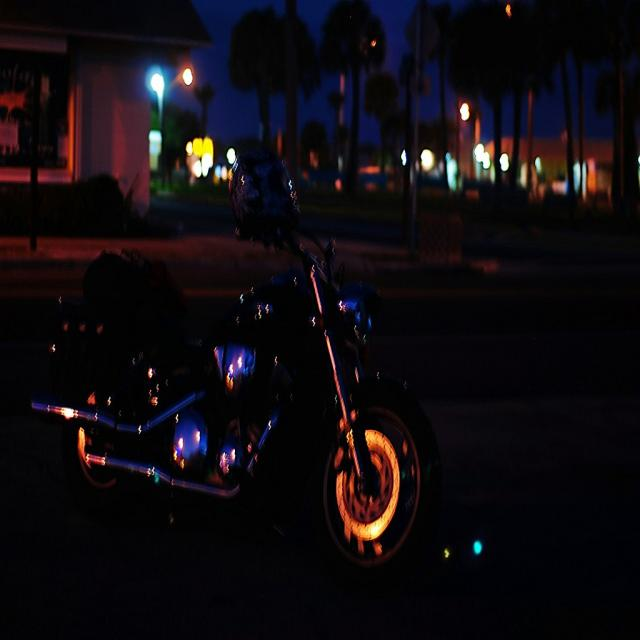Motorbike: (13, 163, 421, 566)
